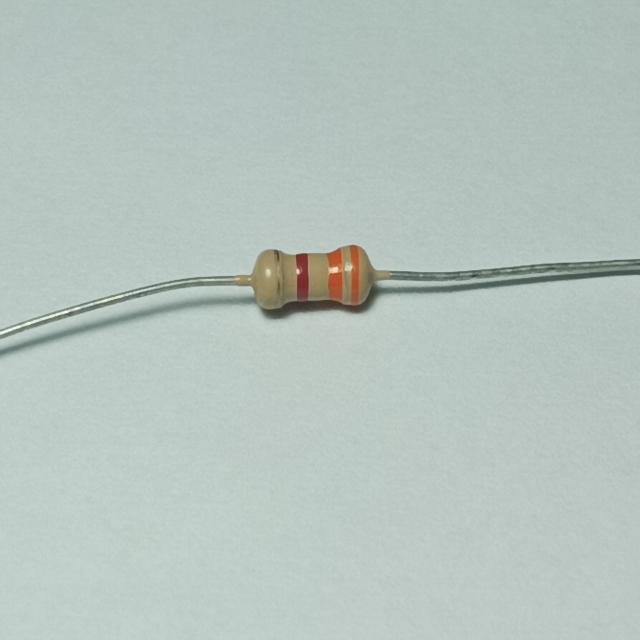3.3k ohms: (237, 227, 391, 337)
